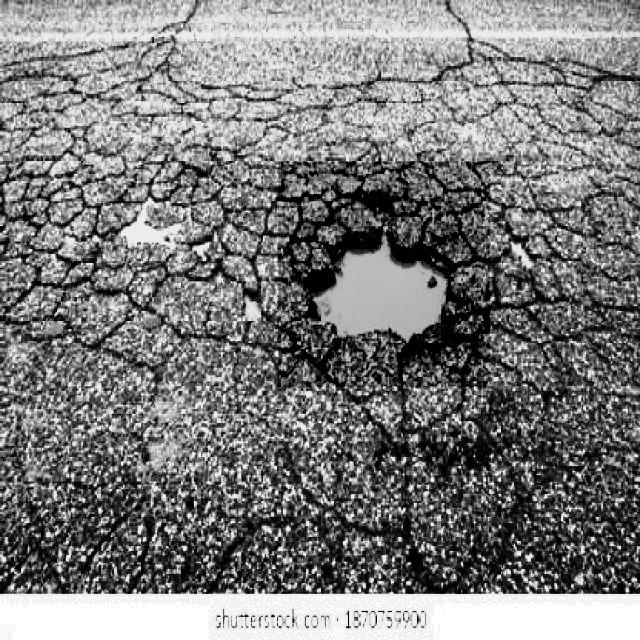pothole: (278, 162, 490, 387)
